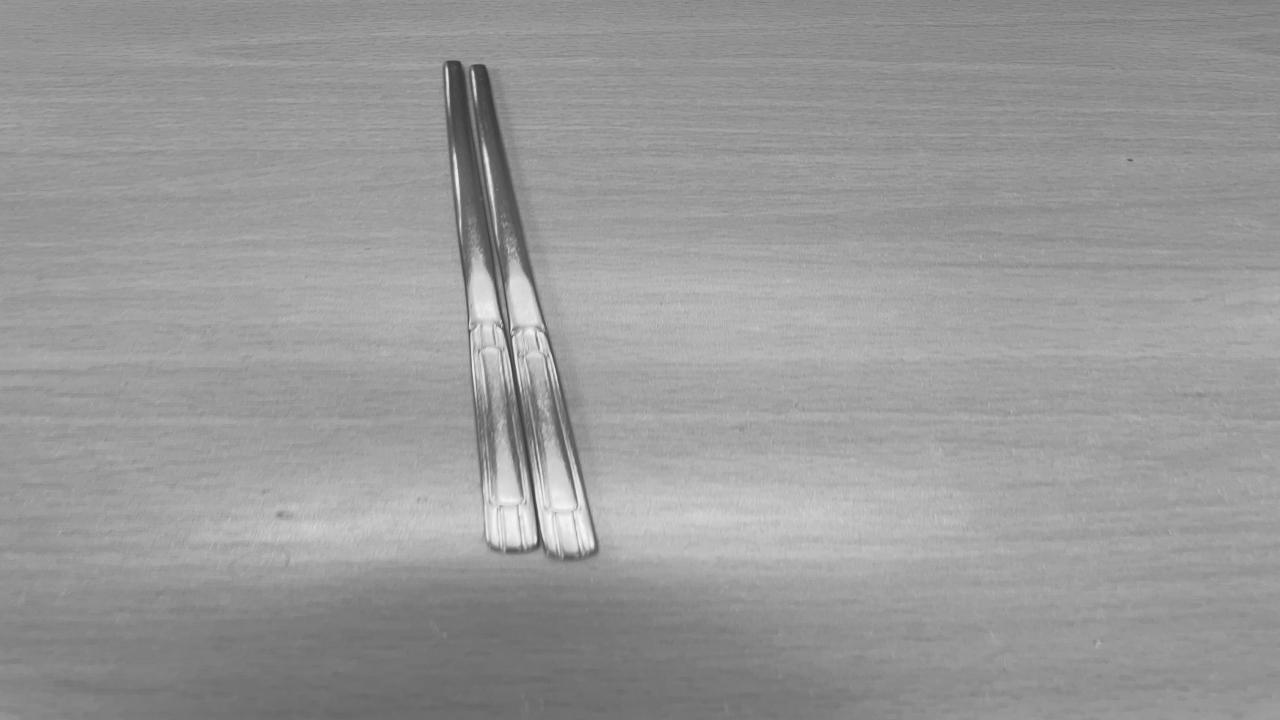chopstick: (448, 61, 594, 554)
